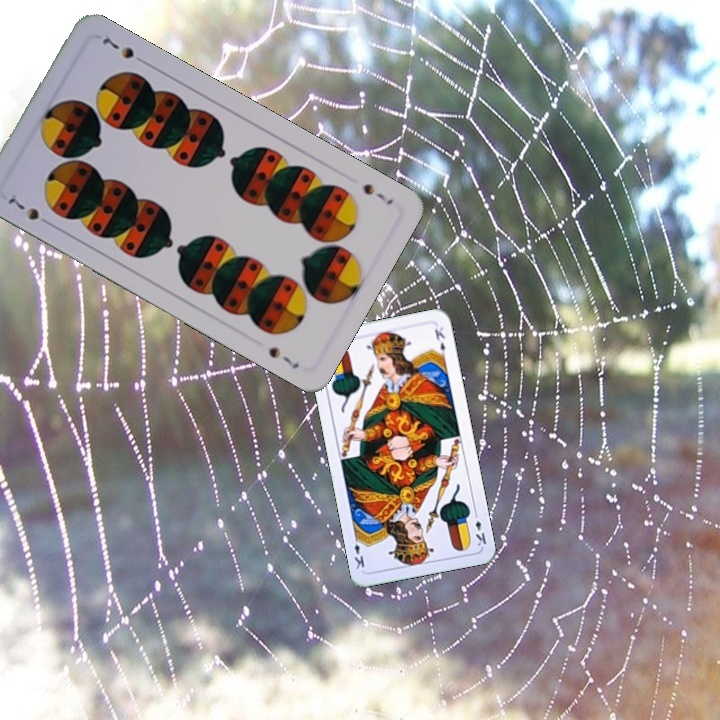EK: (470, 508, 489, 549)
S7: (3, 193, 55, 229), (359, 179, 396, 208)
